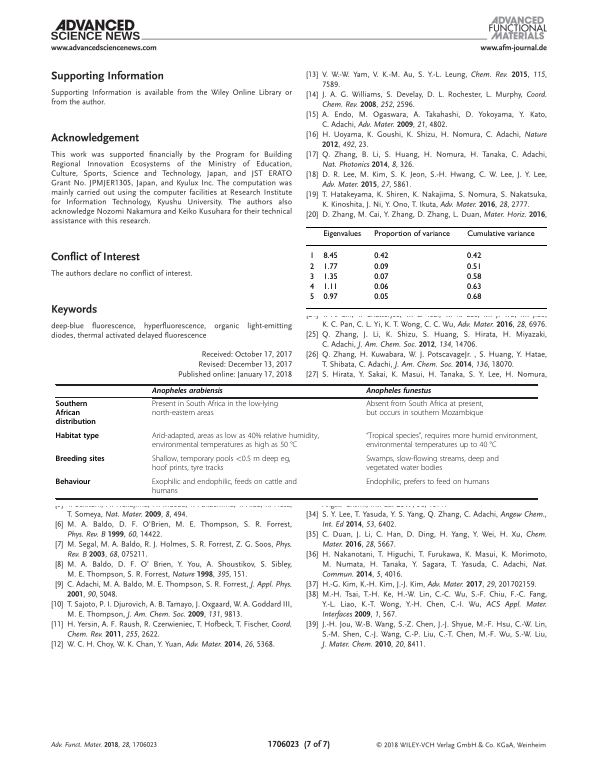borderless: (54, 383, 537, 498), (305, 225, 547, 309)
cell: (365, 432, 538, 451), (151, 432, 320, 451), (151, 478, 298, 497), (151, 455, 291, 474), (365, 455, 500, 474), (151, 400, 279, 419), (365, 400, 484, 419), (365, 478, 490, 488), (54, 400, 97, 428), (373, 229, 450, 239), (466, 229, 535, 239), (151, 387, 224, 396), (365, 387, 432, 396), (54, 455, 106, 465), (54, 432, 100, 442), (322, 229, 362, 239), (54, 478, 91, 488), (322, 262, 338, 272), (373, 262, 389, 272), (466, 262, 482, 272), (322, 272, 338, 282), (373, 272, 389, 282), (466, 272, 482, 282), (322, 282, 338, 292), (373, 282, 389, 292), (466, 282, 482, 292), (322, 252, 338, 261), (373, 252, 389, 261), (466, 252, 482, 261), (322, 293, 338, 302), (373, 293, 389, 302), (466, 293, 482, 302), (308, 262, 315, 272), (308, 272, 315, 282), (308, 282, 315, 292), (308, 252, 315, 261), (308, 293, 315, 302)
